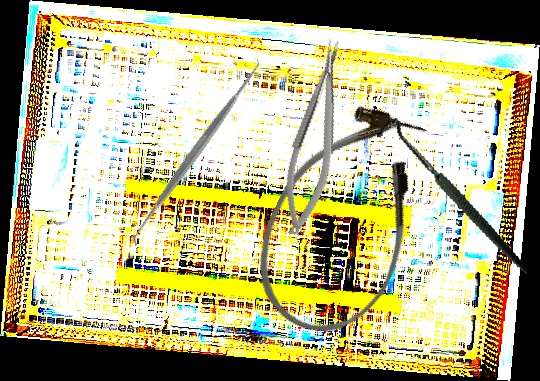Cannula: (233, 85, 455, 354)
Hook Surgical: (373, 95, 530, 303)
Needle Holder: (271, 36, 361, 240)
Spatula Surgical: (120, 55, 272, 250)
